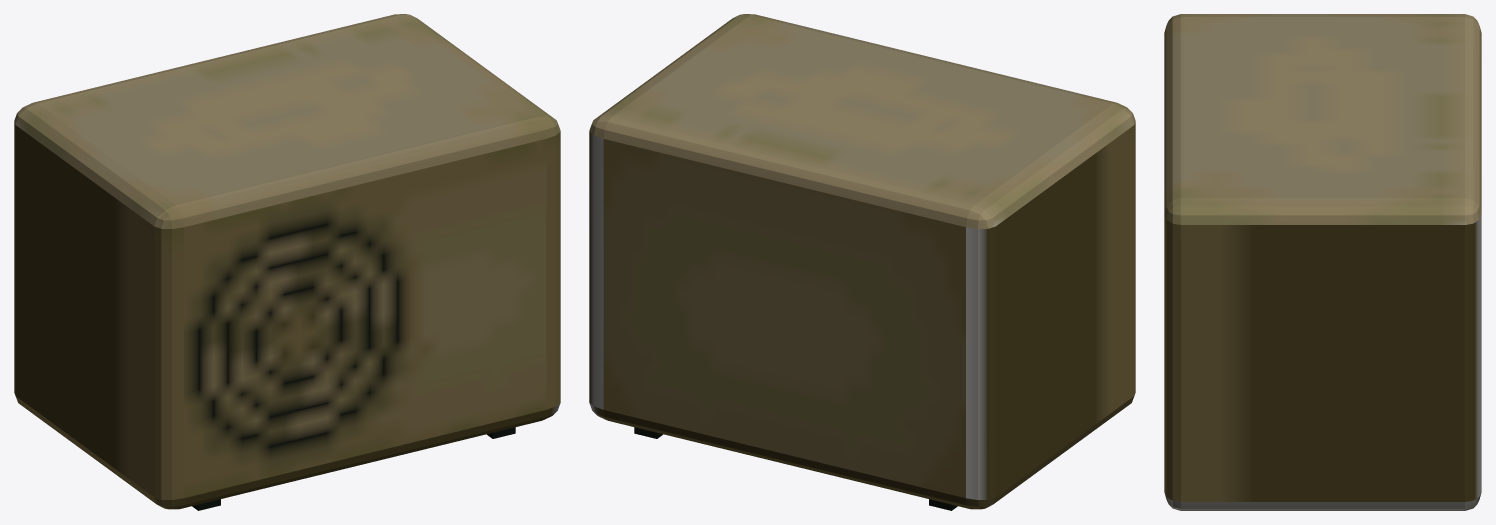
File: Ventilador.obj
The picture shows the model from 3 angles, left to right: view 1: azimuth 30°, elevation 25°; view 2: azimuth 150°, elevation 25°; view 3: azimuth 270°, elevation 25°; orthographic projection. The views are drawn at different scales.
Parts seen in each view (by area): view 1: Cube; view 2: Cube; view 3: Cube.
Boxes of the visible parts, x1,y1,x2,y2 form: Cube: (14, 14, 560, 510); Cube: (589, 14, 1135, 510); Cube: (1164, 14, 1481, 510).
Bounding box in the file's own units: 1.09 × 0.7992 × 0.7228.
Materials: 1 (1 with a texture image).
